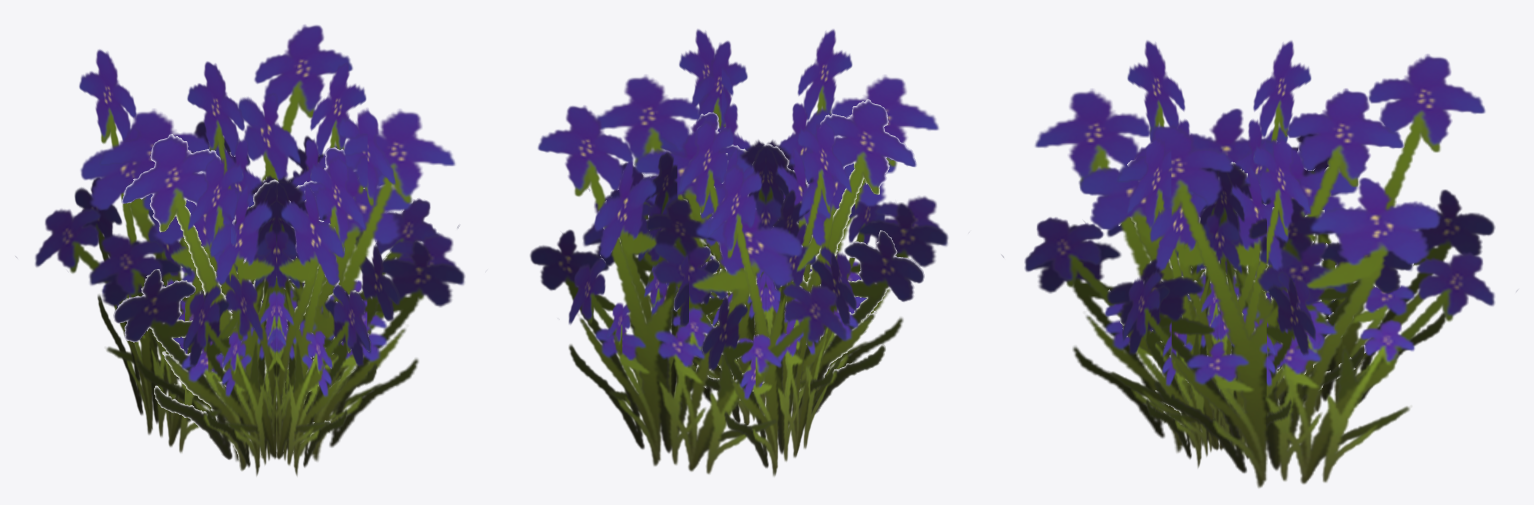
Rendered from cicek_mor.glb.
The picture shows the model from 3 angles, left to right: view 1: azimuth 30°, elevation 25°; view 2: azimuth 150°, elevation 25°; view 3: azimuth 270°, elevation 25°; orthographic projection. The views are drawn at different scales.
Visible parts, largest first — view 1: HP3_flower4; view 2: HP3_flower4; view 3: HP3_flower4.
Part boxes in pixels (bbox=[...]): HP3_flower4: bbox=[16, 25, 464, 475]; HP3_flower4: bbox=[530, 29, 948, 476]; HP3_flower4: bbox=[1002, 40, 1517, 487].
Bounding box in the file's own units: 0.4768 × 0.4544 × 0.5658.
Materials: 4 (4 with a texture image).
